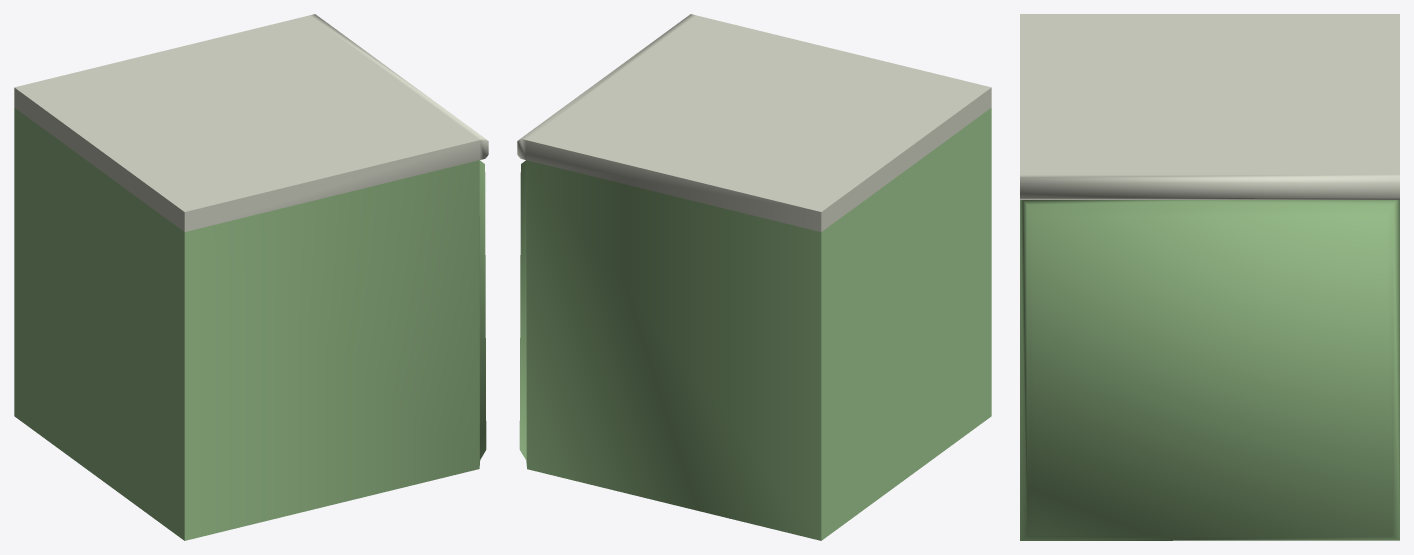
Rendered from stoltshnitsa_simple.fbx.
3 renders of one model, left to right at view 1: azimuth 30°, elevation 25°; view 2: azimuth 150°, elevation 25°; view 3: azimuth 270°, elevation 25°, orthographic. The views are drawn at different scales.
Parts seen in each view (by area): view 1: СТОЛЕШНИЦА1; view 2: СТОЛЕШНИЦА1; view 3: СТОЛЕШНИЦА1.
Boxes of the visible parts, box(x1,y1,x2,y2) form: СТОЛЕШНИЦА1: box(14, 14, 488, 540); СТОЛЕШНИЦА1: box(517, 14, 991, 540); СТОЛЕШНИЦА1: box(1020, 14, 1399, 540).
Size of the model in its own units: 209 by 213 by 200.
